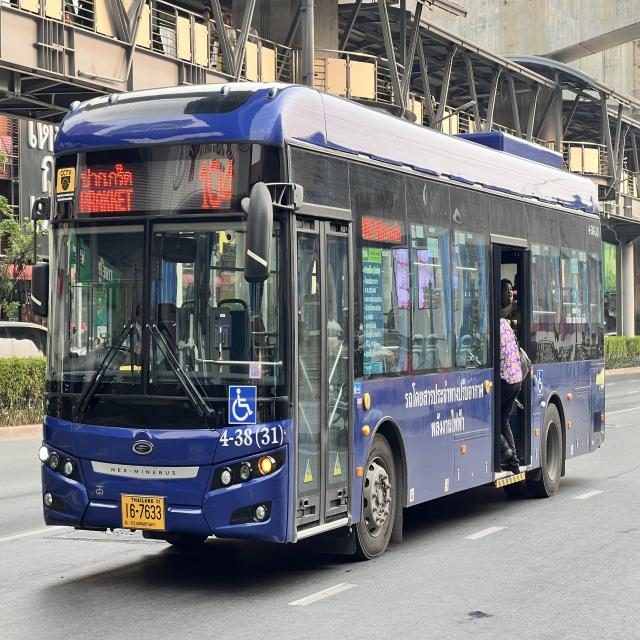Bus-Line-Number: (194, 145, 237, 218)
Destination-Sign-Normal: (75, 154, 141, 220)
TSB-Bus: (32, 72, 613, 576)
